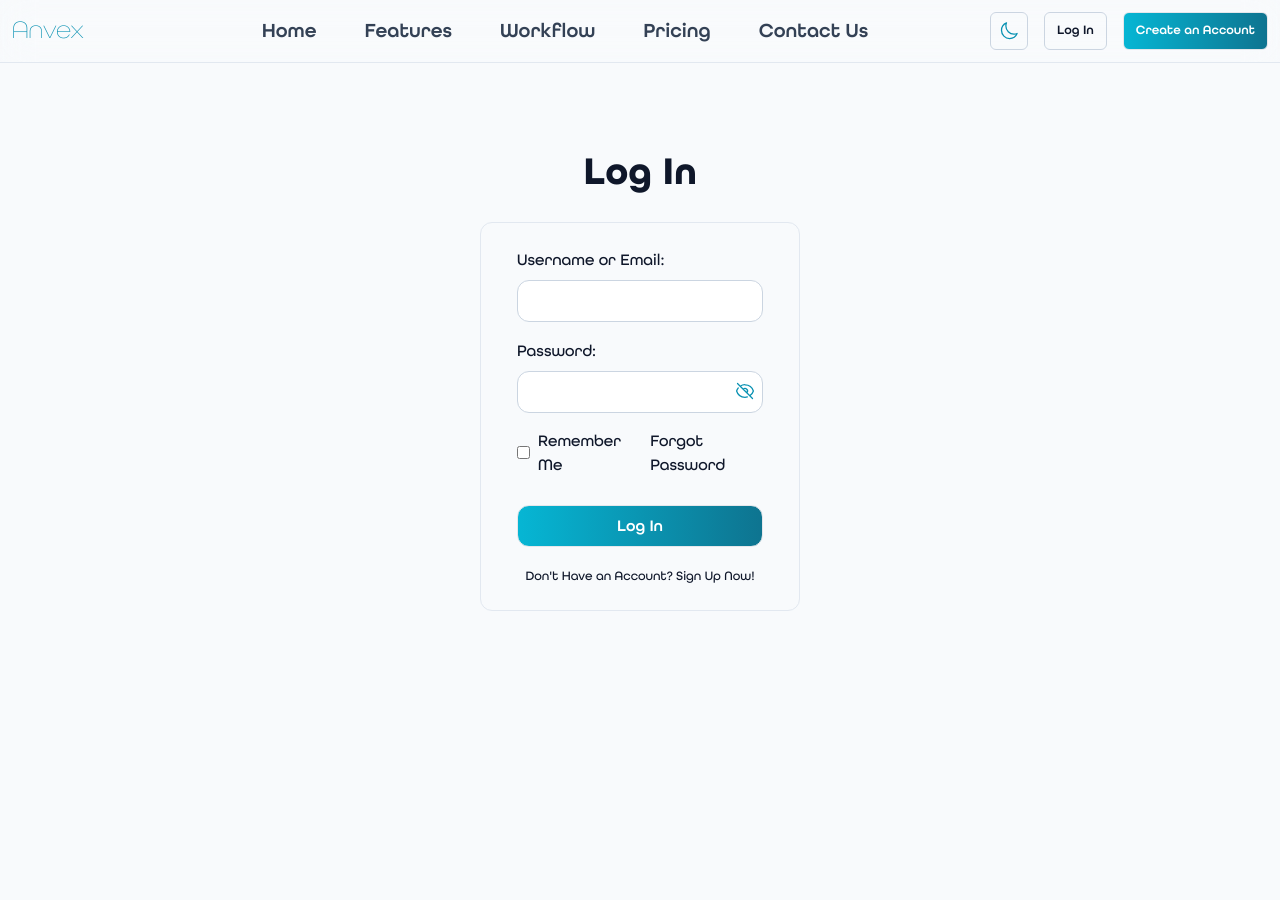
Scenario: submitting › shows the server’s message and turns the button into "Try Again"
Expected: the element with test id "route-login" is shown, x1=480 y1=148 x2=800 y2=611
Type "ada" into the field labelled "Username or Email:" at (640, 301), box x1=517 y1=280 x2=763 y2=322
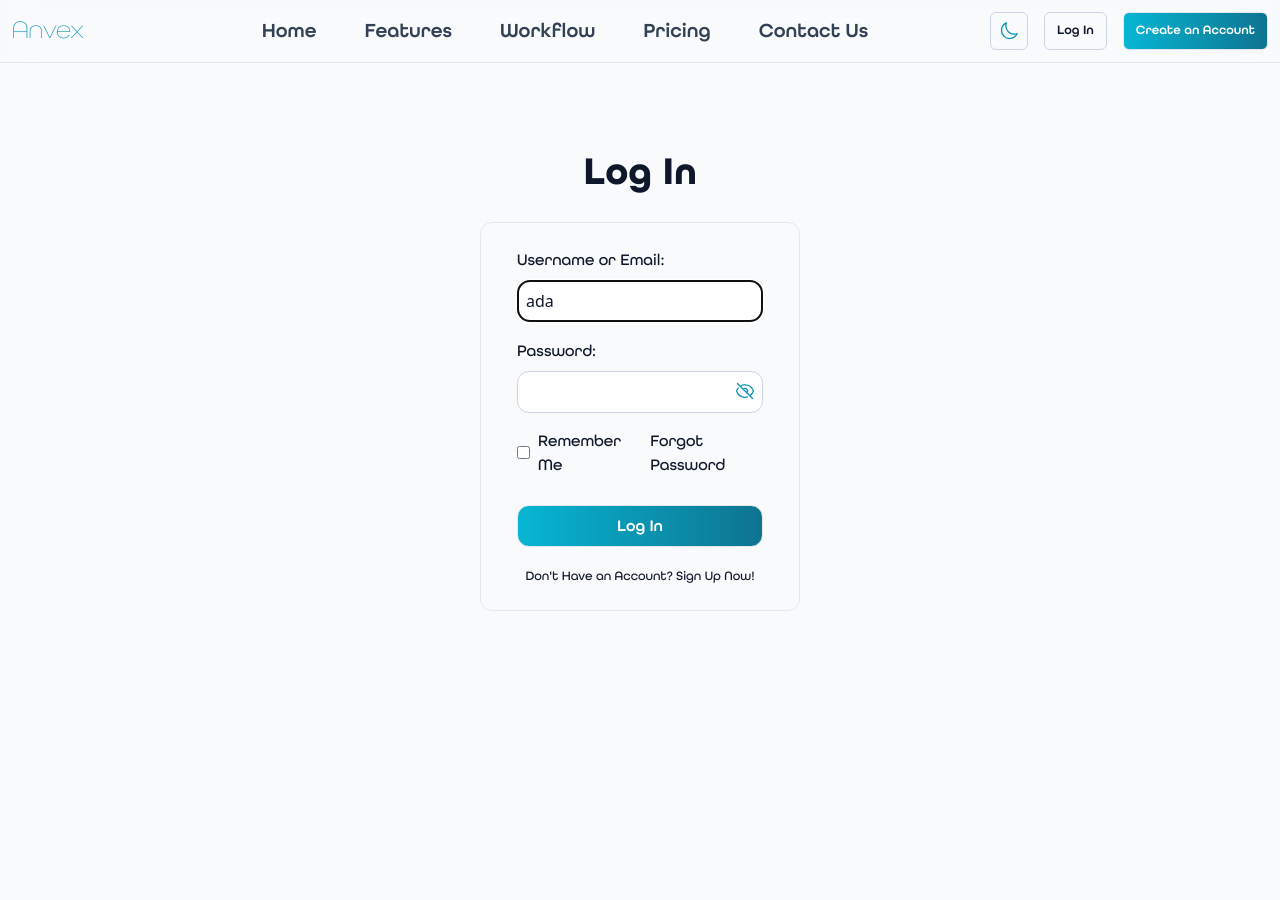
Type "wrong" into the password field labelled "Password:" at (640, 392), box x1=517 y1=371 x2=763 y2=413
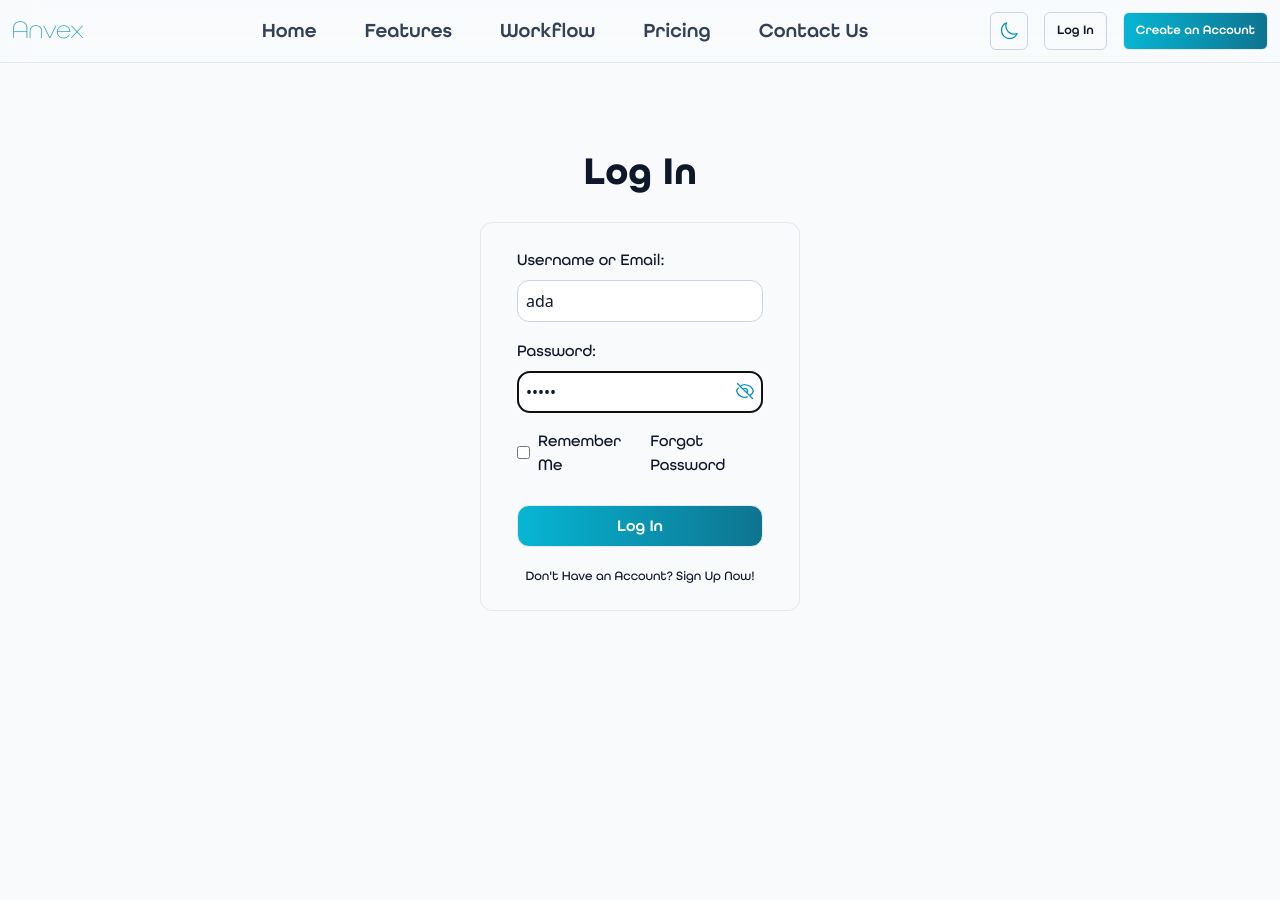
Click the button "Log In" at (640, 526), box x1=517 y1=505 x2=763 y2=547
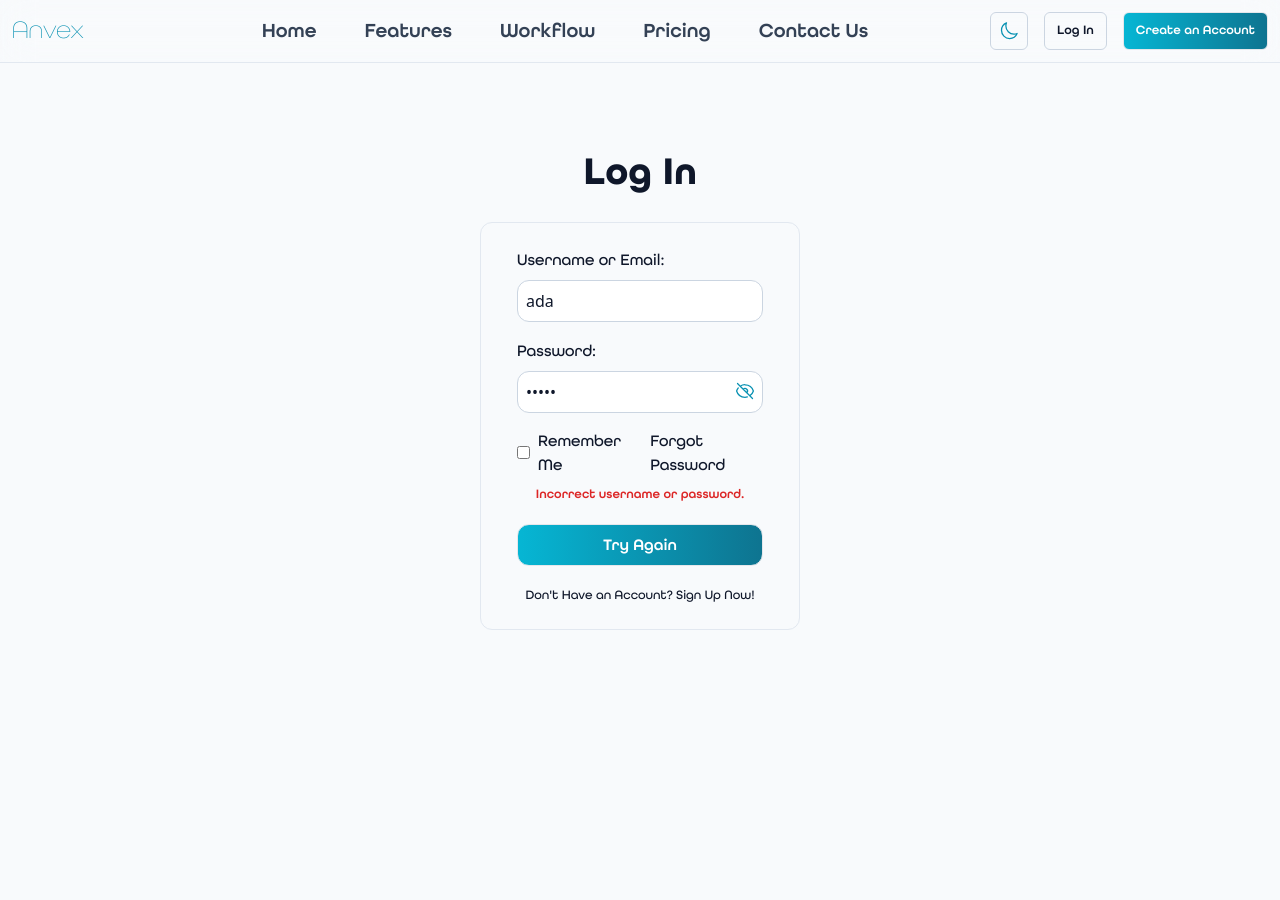
Expected: the message with test id "login-error" reads "Incorrect username or password.", x1=536 y1=486 x2=744 y2=502
Expected: the button "Try Again" is shown, x1=517 y1=524 x2=763 y2=566
